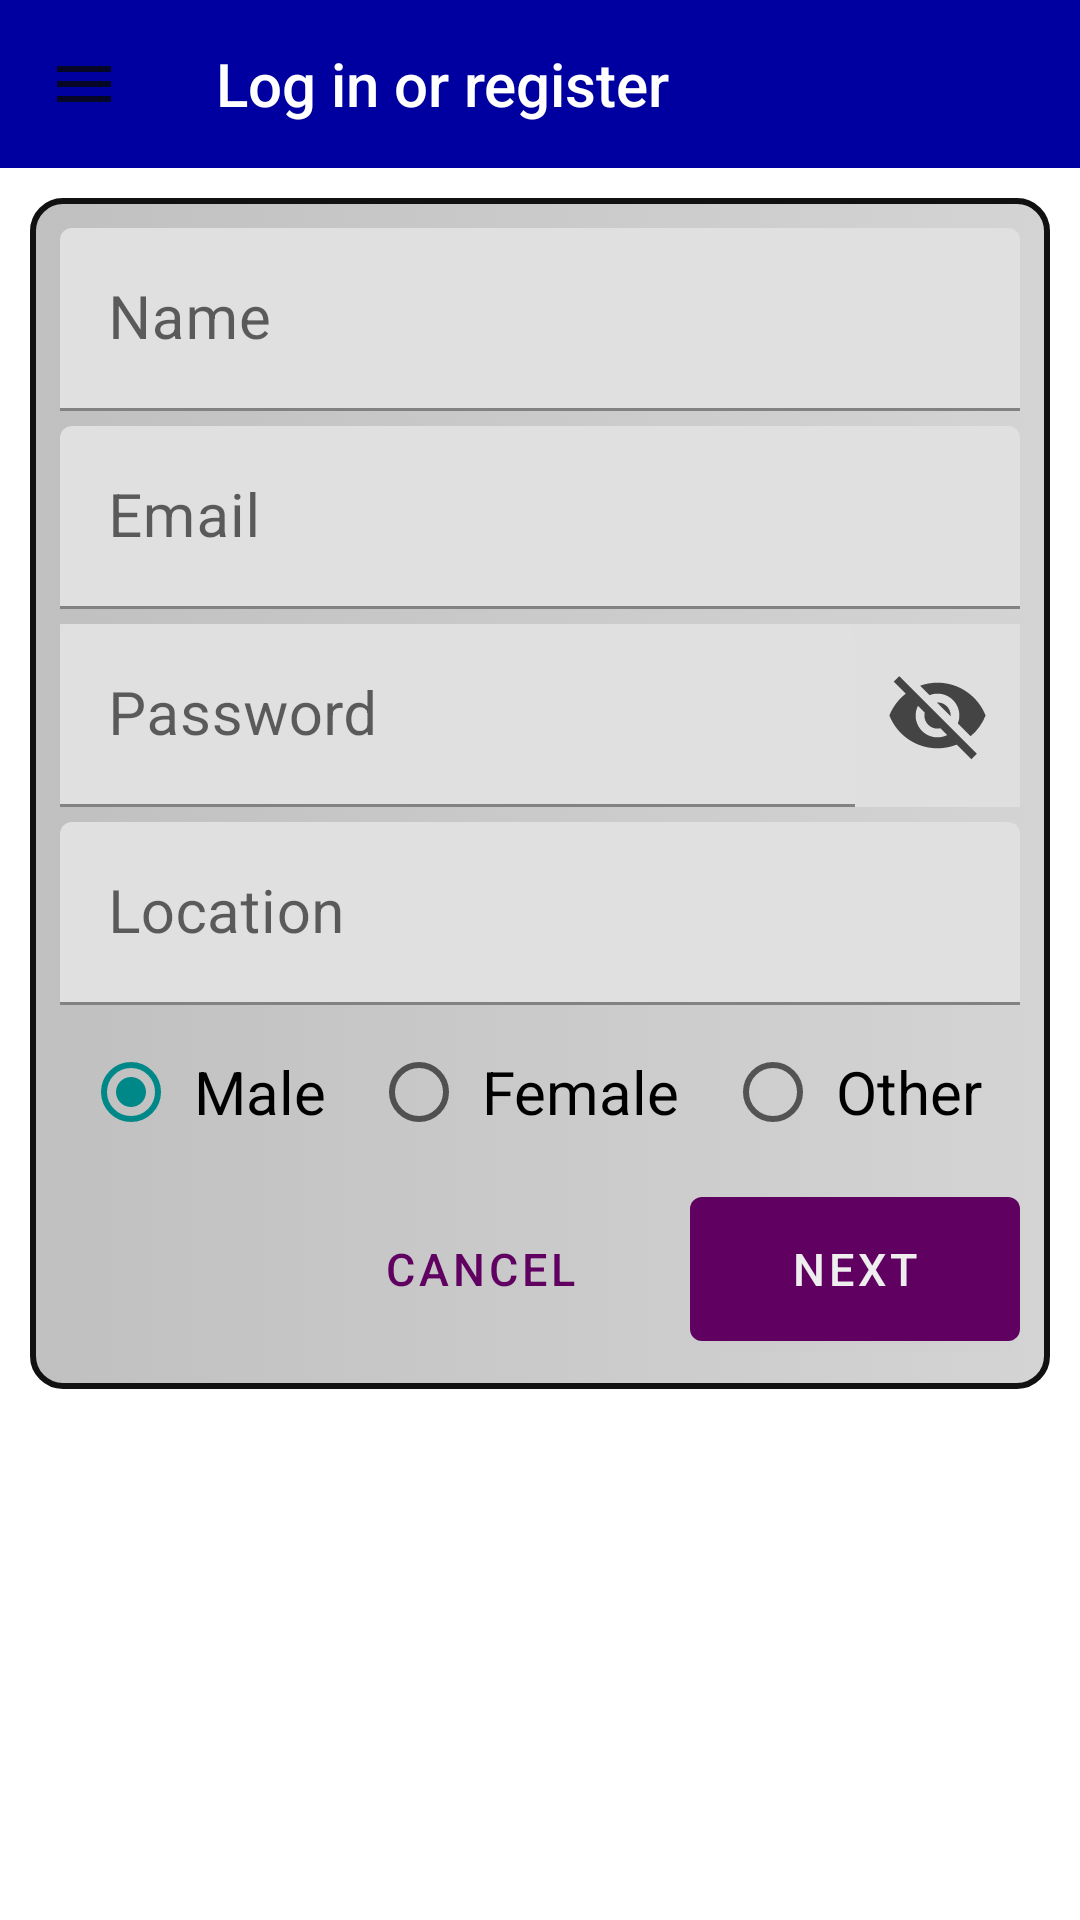

Named icons in this screenshot (1080x1920) and their bounding boxes, (x1, y1, x2, y2):
Change visibility: (889, 676, 986, 759)
